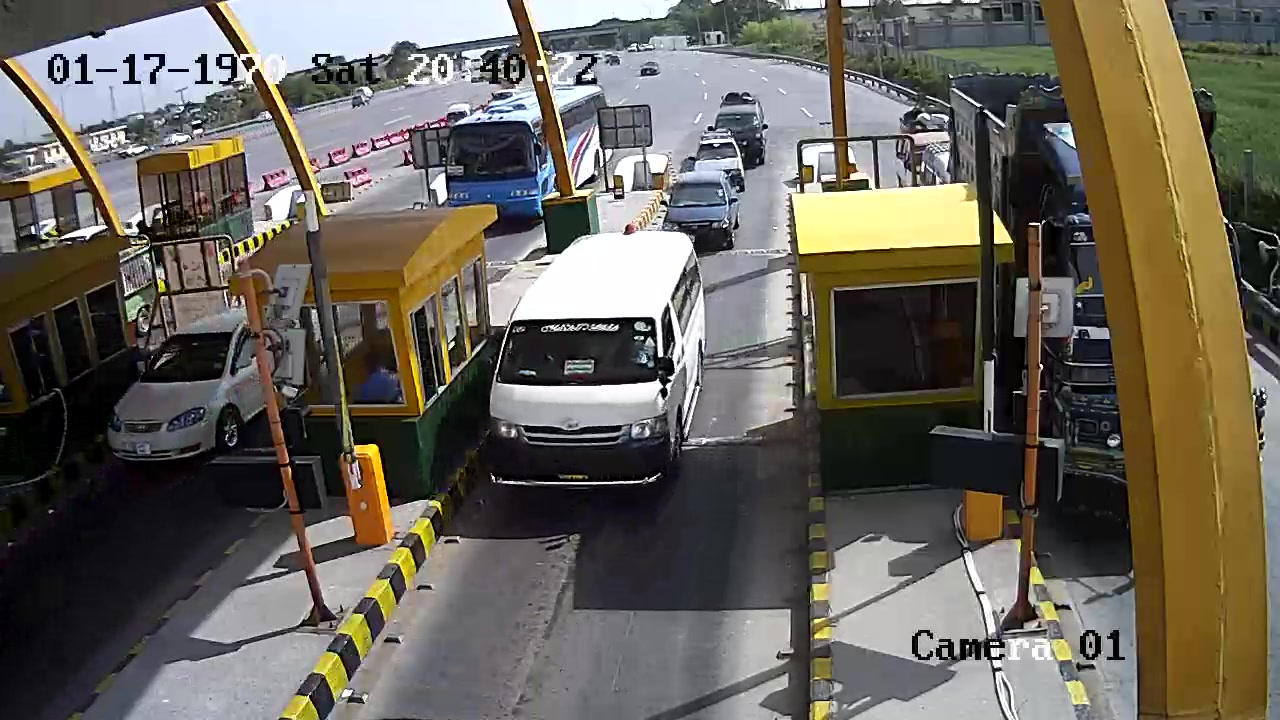F2: (486, 231, 710, 512)
